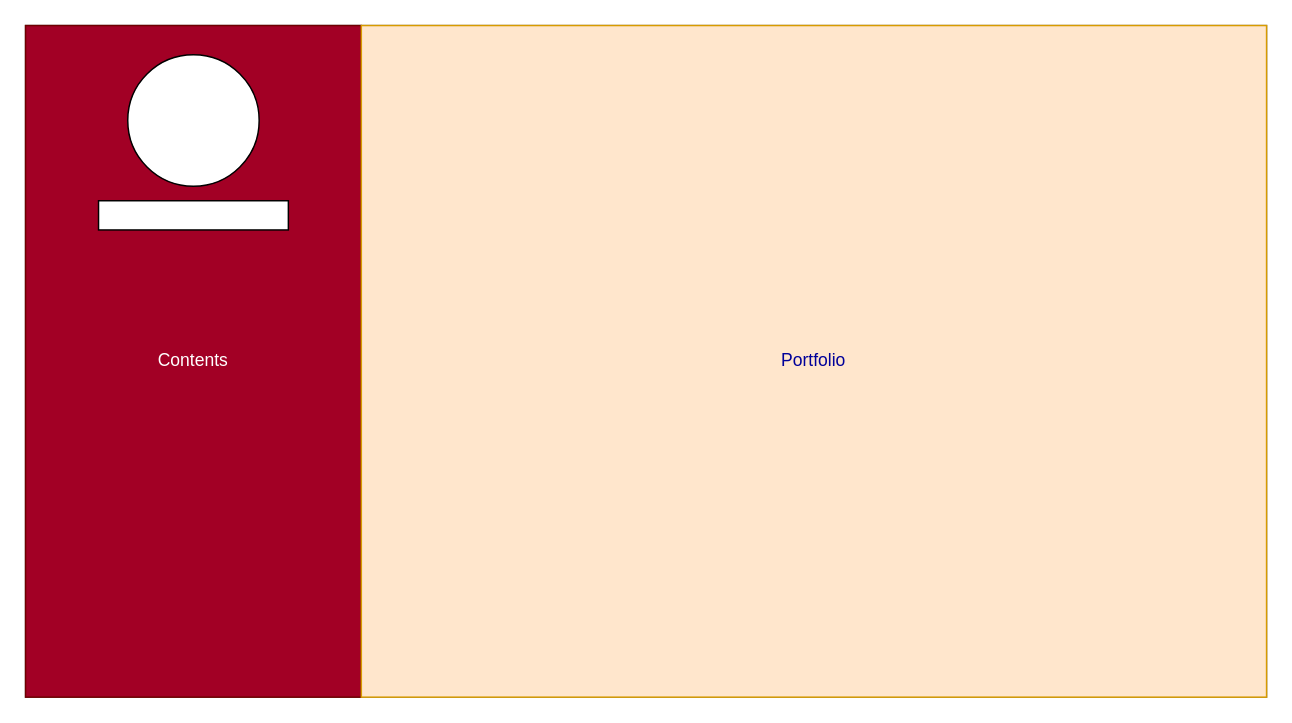
Some shapes in this 1292 by 723 pixel diagram are drawn without their labels. The centre of each missing label's shape, as x and y in pixels:
"<Avatar/>" belongs at point (192, 119).
"<Personal Details/>" belongs at point (192, 214).
